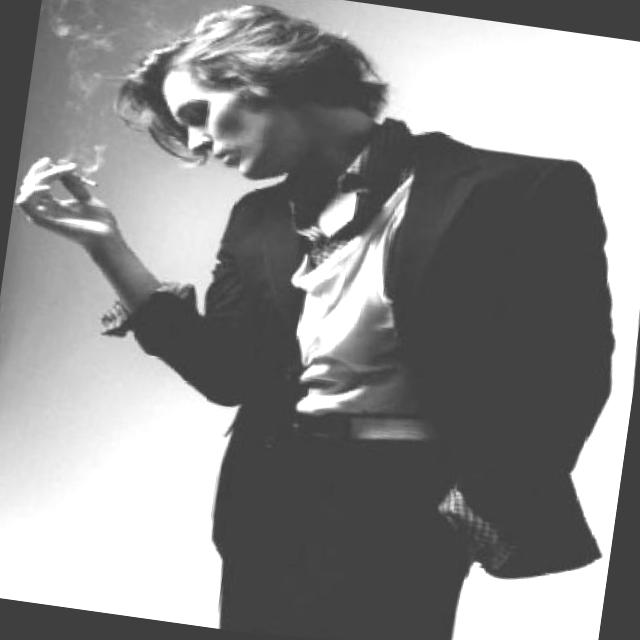cigarette: (8, 158, 124, 257)
